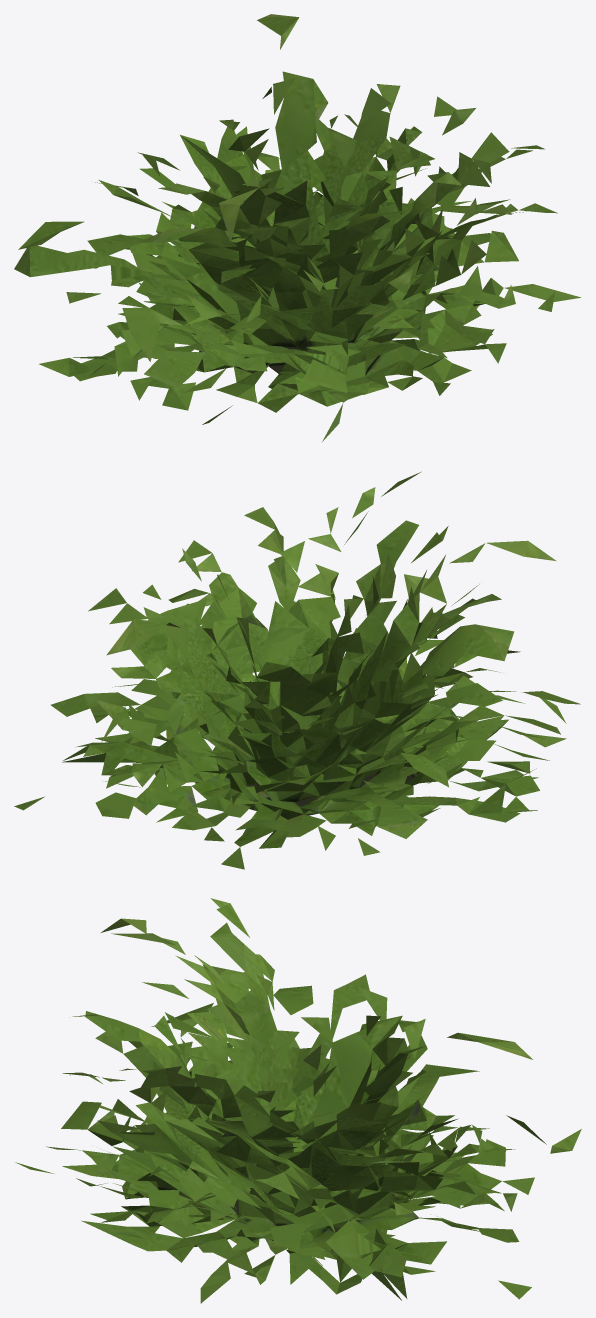
File: scene_fern.glb
The picture shows the model from 3 angles, top to bottom: view 1: azimuth 30°, elevation 25°; view 2: azimuth 150°, elevation 25°; view 3: azimuth 270°, elevation 25°; orthographic projection. The views are drawn at different scales.
Bounding box in the file's own units: 1.71 × 0.8868 × 1.74.
1 material, 1 textured.
